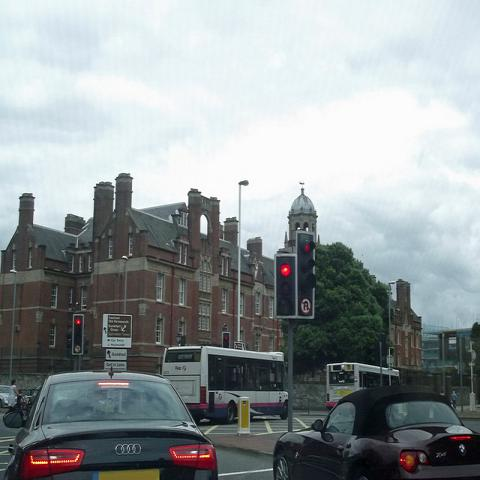bus: (162, 347, 287, 424), (325, 364, 402, 409)
car: (7, 368, 216, 474), (272, 379, 480, 475)
